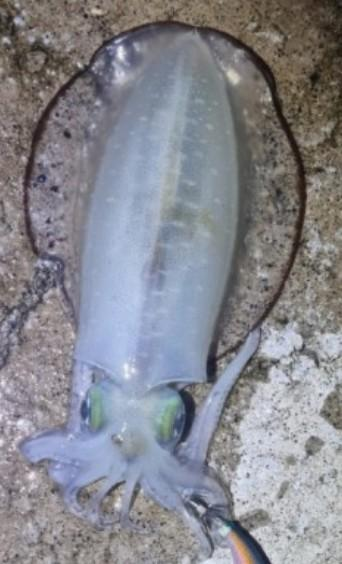Cephalopod: (20, 21, 307, 563)
